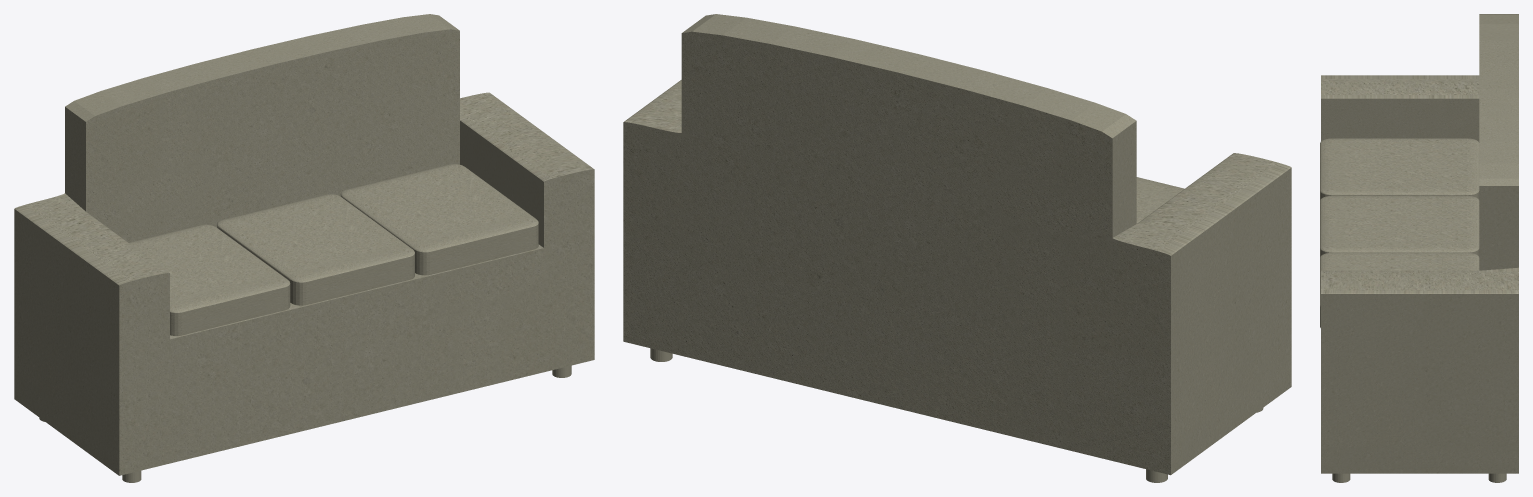
Rendered from sofa2.fbx.
The picture shows the model from 3 angles, left to right: view 1: azimuth 30°, elevation 25°; view 2: azimuth 150°, elevation 25°; view 3: azimuth 270°, elevation 25°; orthographic projection. The views are drawn at different scales.
Parts seen in each view (by area): view 1: Cylinder.001; view 2: Cylinder.001; view 3: Cylinder.001.
Boxes of the visible parts, x1=… form: Cylinder.001: x1=14, y1=14, x2=594, y2=482; Cylinder.001: x1=623, y1=14, x2=1291, y2=482; Cylinder.001: x1=1320, y1=14, x2=1518, y2=482.
Size of the model in its own units: 1142 by 708 by 438.
